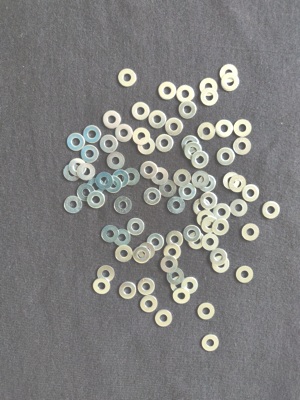circle: (116, 68, 137, 88), (201, 334, 221, 354), (63, 196, 83, 216), (100, 134, 120, 154), (218, 64, 239, 83), (235, 265, 255, 284), (241, 184, 261, 203), (216, 148, 236, 167), (215, 118, 234, 138), (196, 122, 216, 141), (139, 295, 159, 314), (118, 280, 137, 300), (142, 186, 161, 206), (113, 196, 133, 215), (63, 163, 82, 183), (80, 145, 100, 164), (102, 110, 122, 129), (156, 134, 175, 154), (147, 110, 167, 129), (96, 264, 117, 282), (82, 126, 103, 144), (262, 201, 281, 220), (230, 199, 249, 218), (234, 119, 253, 138), (158, 179, 177, 198), (114, 124, 133, 143), (131, 102, 150, 121), (165, 117, 184, 136), (176, 84, 195, 103), (229, 174, 247, 194), (114, 245, 134, 263), (137, 137, 157, 155), (211, 256, 232, 273), (209, 248, 228, 266), (92, 277, 111, 295), (181, 277, 200, 295), (170, 276, 189, 294), (166, 230, 184, 249), (183, 225, 202, 243), (211, 219, 230, 237), (198, 174, 217, 192), (167, 196, 186, 214), (173, 169, 191, 188), (139, 161, 158, 179), (113, 228, 131, 247), (127, 217, 145, 236), (87, 191, 106, 209), (88, 178, 106, 197), (123, 167, 141, 186), (69, 158, 87, 177), (68, 132, 86, 151), (132, 128, 151, 146), (179, 102, 198, 120), (159, 81, 177, 100), (221, 73, 240, 91), (178, 183, 198, 200), (181, 136, 201, 153), (222, 172, 240, 190), (156, 310, 174, 328), (167, 268, 185, 286), (192, 171, 210, 189), (151, 167, 169, 185), (147, 233, 165, 251), (101, 226, 119, 244), (78, 163, 96, 181), (106, 152, 124, 170), (192, 151, 210, 169), (202, 89, 220, 107), (200, 78, 218, 96), (198, 303, 215, 322), (241, 224, 260, 241), (138, 276, 155, 295), (161, 255, 178, 274), (202, 233, 219, 252), (133, 246, 150, 265), (233, 137, 250, 155), (188, 232, 205, 250), (213, 204, 231, 221), (200, 192, 218, 209), (193, 198, 210, 216), (77, 184, 95, 201), (96, 172, 113, 190), (113, 170, 130, 188), (184, 143, 203, 159), (138, 244, 156, 260), (106, 176, 122, 194), (163, 245, 182, 260), (201, 217, 218, 233), (172, 289, 190, 304), (197, 211, 215, 226)
